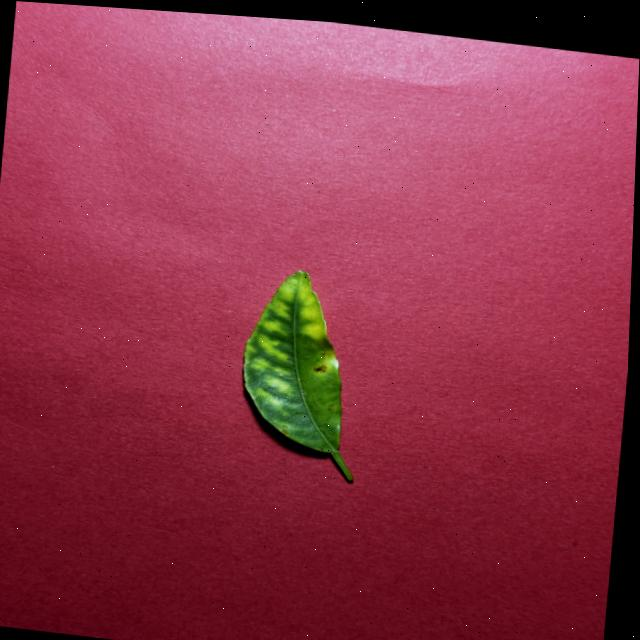greening: (244, 271, 341, 453)
